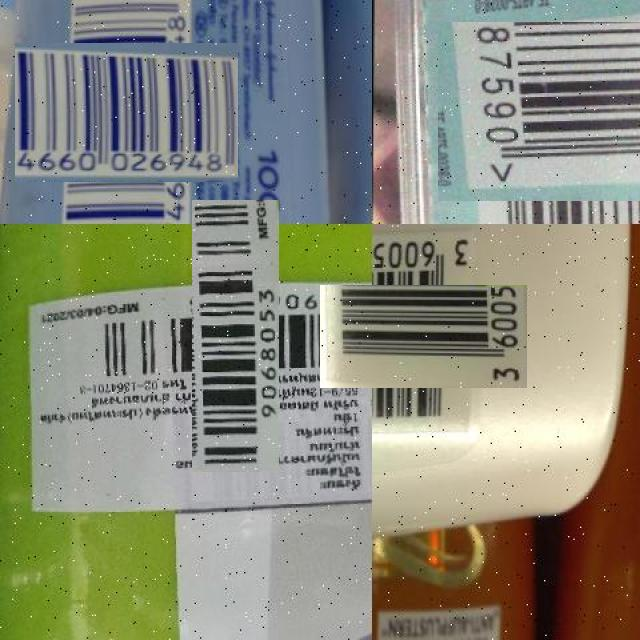Barcode: (449, 11, 640, 213), (36, 21, 217, 203), (146, 246, 326, 426), (346, 258, 501, 414)
